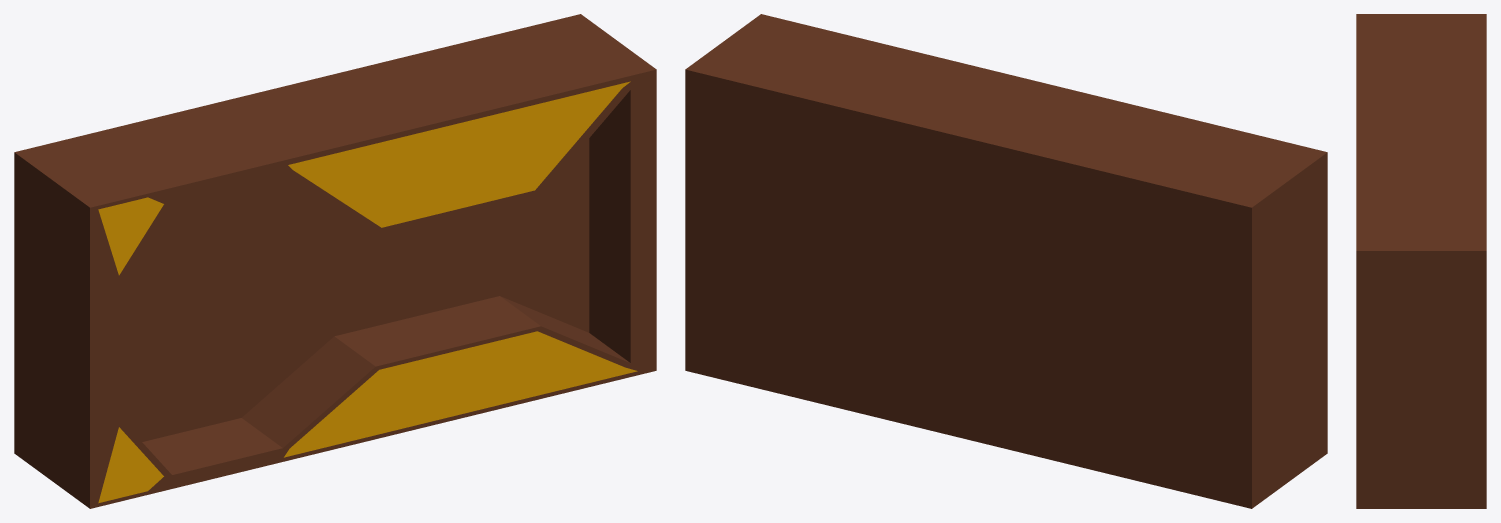
File: KeyBox.fbx
3 views of the same model, side by side, from view 1: azimuth 30°, elevation 25°; view 2: azimuth 150°, elevation 25°; view 3: azimuth 270°, elevation 25° (orthographic). The views are drawn at different scales.
Visible parts, largest first — view 1: KeyBox; view 2: KeyBox; view 3: KeyBox.
Part boxes in pixels (box(x1,y1,x2,y2)): KeyBox: box(14, 14, 656, 508); KeyBox: box(685, 14, 1327, 508); KeyBox: box(1356, 14, 1486, 508).
Bounding box in the file's own units: 862 × 438 × 200.
